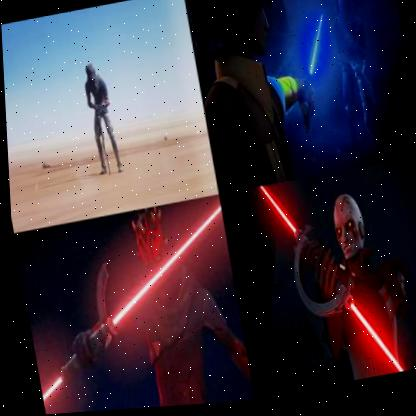lightsaber: (303, 8, 326, 108)
sith_lightsaber: (40, 199, 223, 413), (256, 183, 405, 371)
